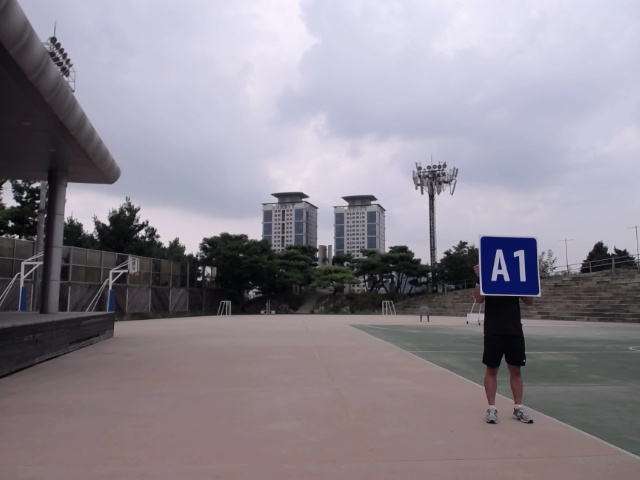delivery_a1: (480, 236, 540, 296)
